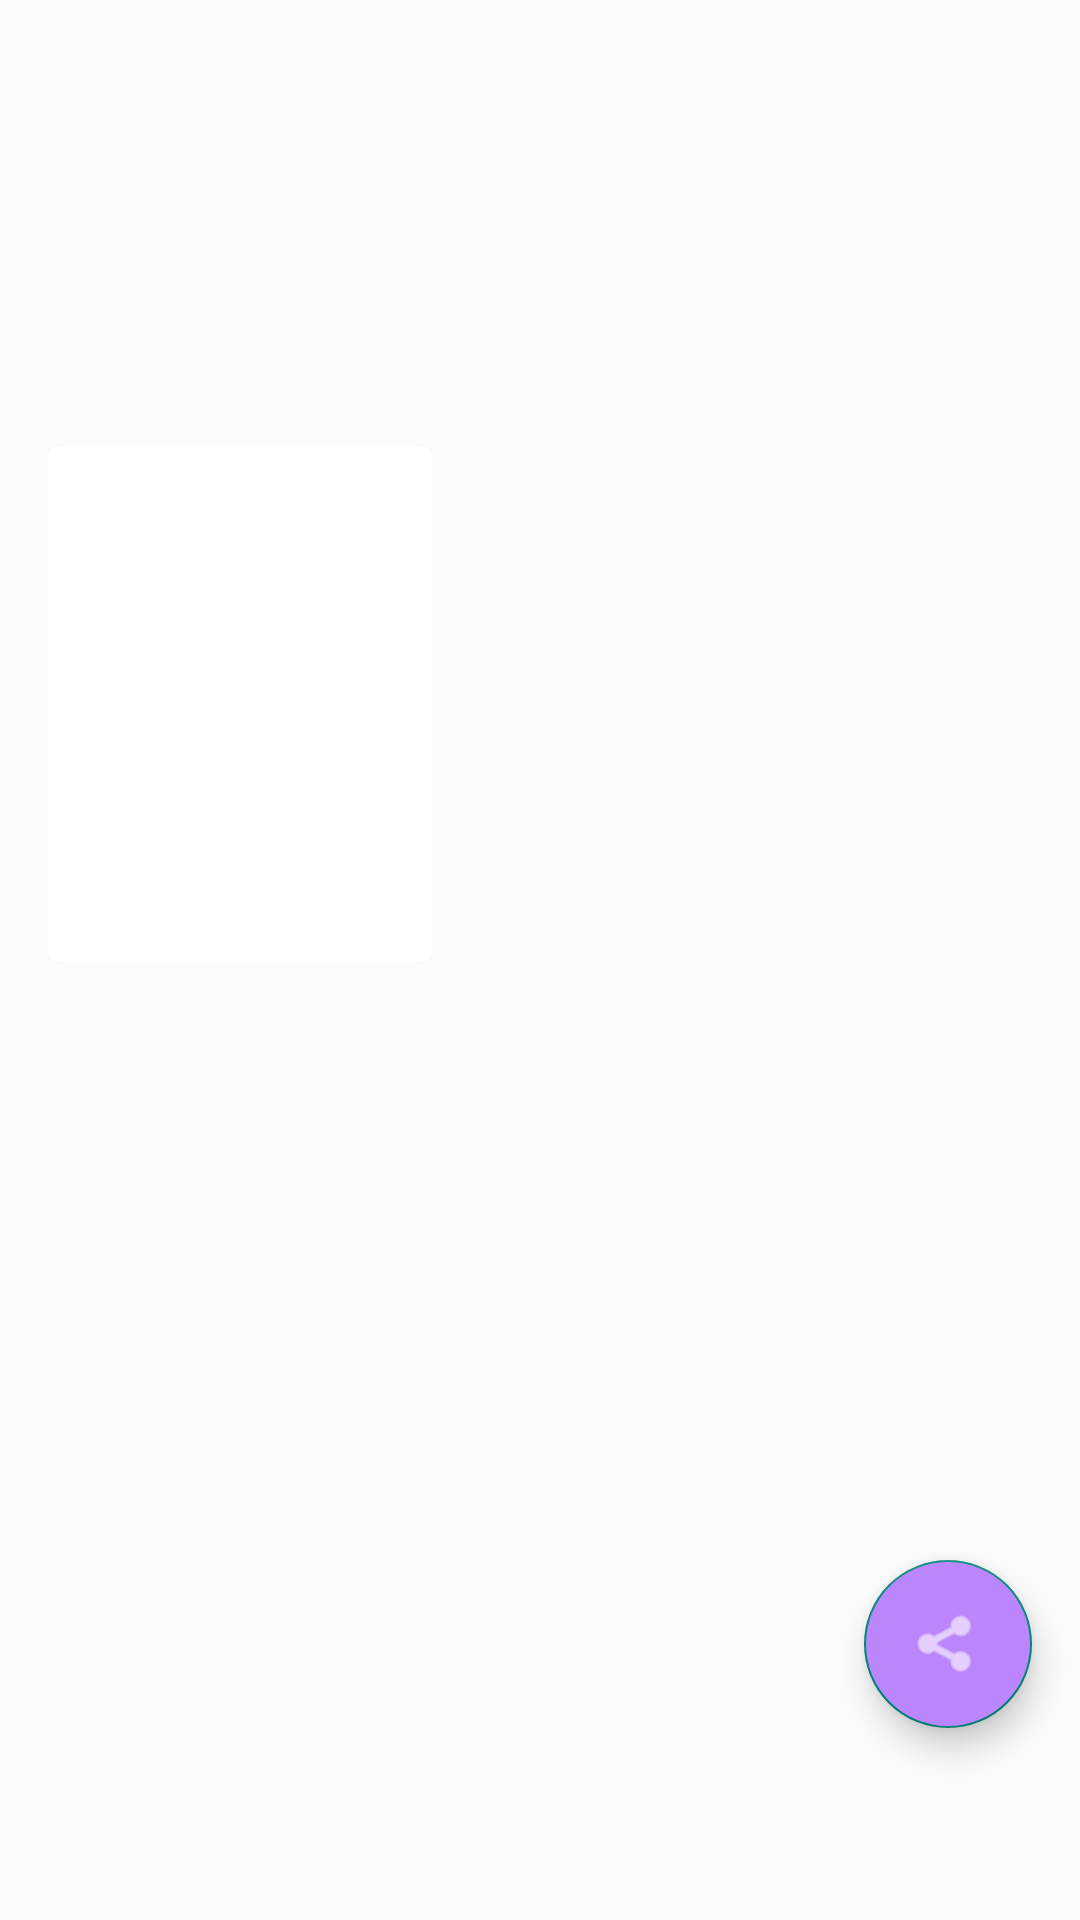

Screen size 1080 × 1920. Icon name, then its center in pixels as (x=x, y=y):
share: (x=948, y=1644)
